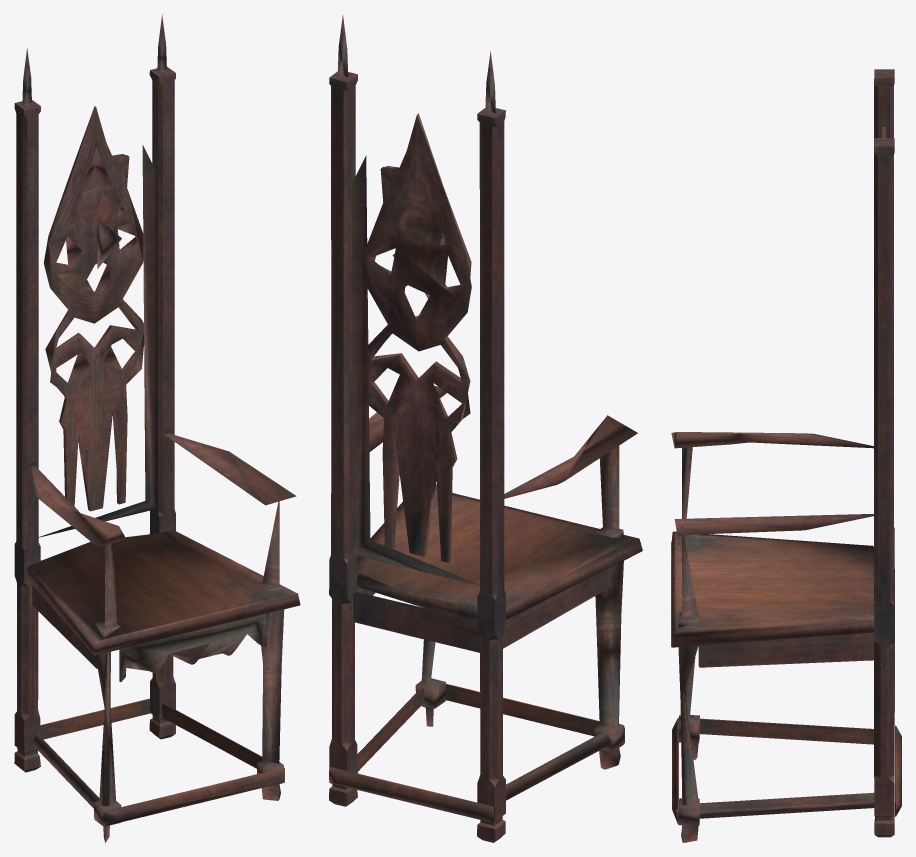
The model's file is woodenchair_01.glb.
The picture shows the model from 3 angles, left to right: view 1: azimuth 30°, elevation 25°; view 2: azimuth 150°, elevation 25°; view 3: azimuth 270°, elevation 25°; orthographic projection. The views are drawn at different scales.
Visible parts, largest first — view 1: WoodenChair_01; view 2: WoodenChair_01; view 3: WoodenChair_01.
Boxes of the visible parts, <box> form: WoodenChair_01: <box>14,14,300,842</box>; WoodenChair_01: <box>329,15,642,842</box>; WoodenChair_01: <box>671,69,901,842</box>.
Size of the model in its own units: 0.6834 by 2.27 by 0.6325.
1 material, 1 textured.
